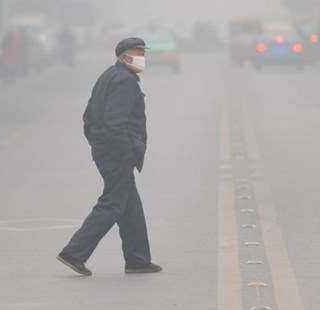person: (54, 34, 164, 278)
